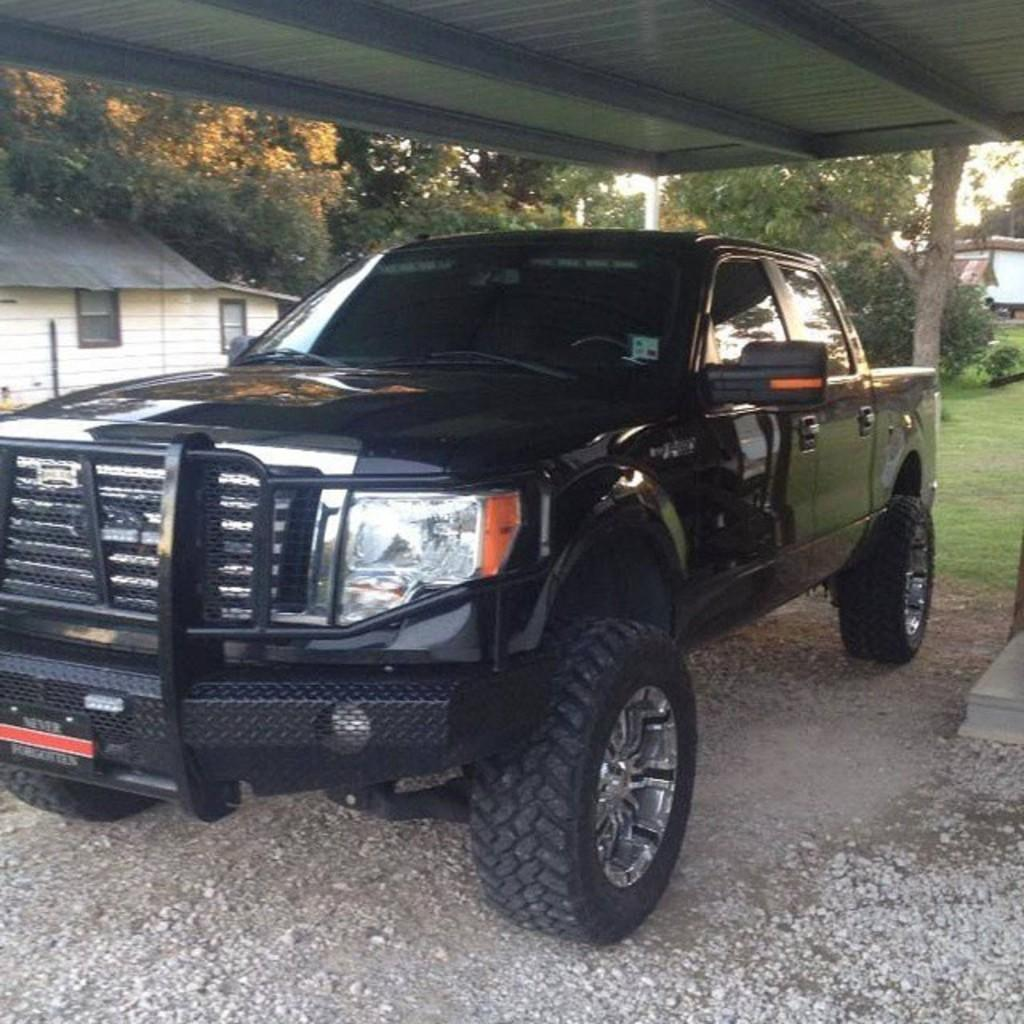Truck: (2, 218, 963, 922)
